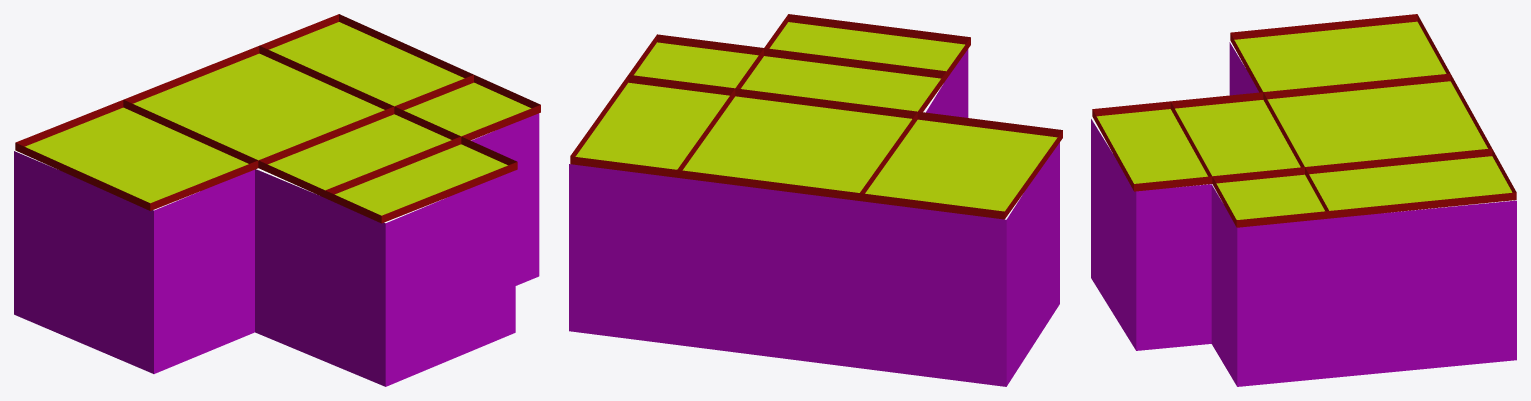
Rendered from btm_11.glb.
3 renders of one model, left to right at view 1: azimuth 30°, elevation 25°; view 2: azimuth 150°, elevation 25°; view 3: azimuth 270°, elevation 25°, orthographic. The views are drawn at different scales.
Parts seen in each view (by area): view 1: btm_11; view 2: btm_11; view 3: btm_11.
Boxes of the visible parts, box(x1,y1,x2,y2) form: btm_11: box(14, 14, 540, 386); btm_11: box(569, 14, 1062, 386); btm_11: box(1091, 14, 1516, 386).
Bounding box in the file's own units: 20.31 × 7.66 × 17.66.
